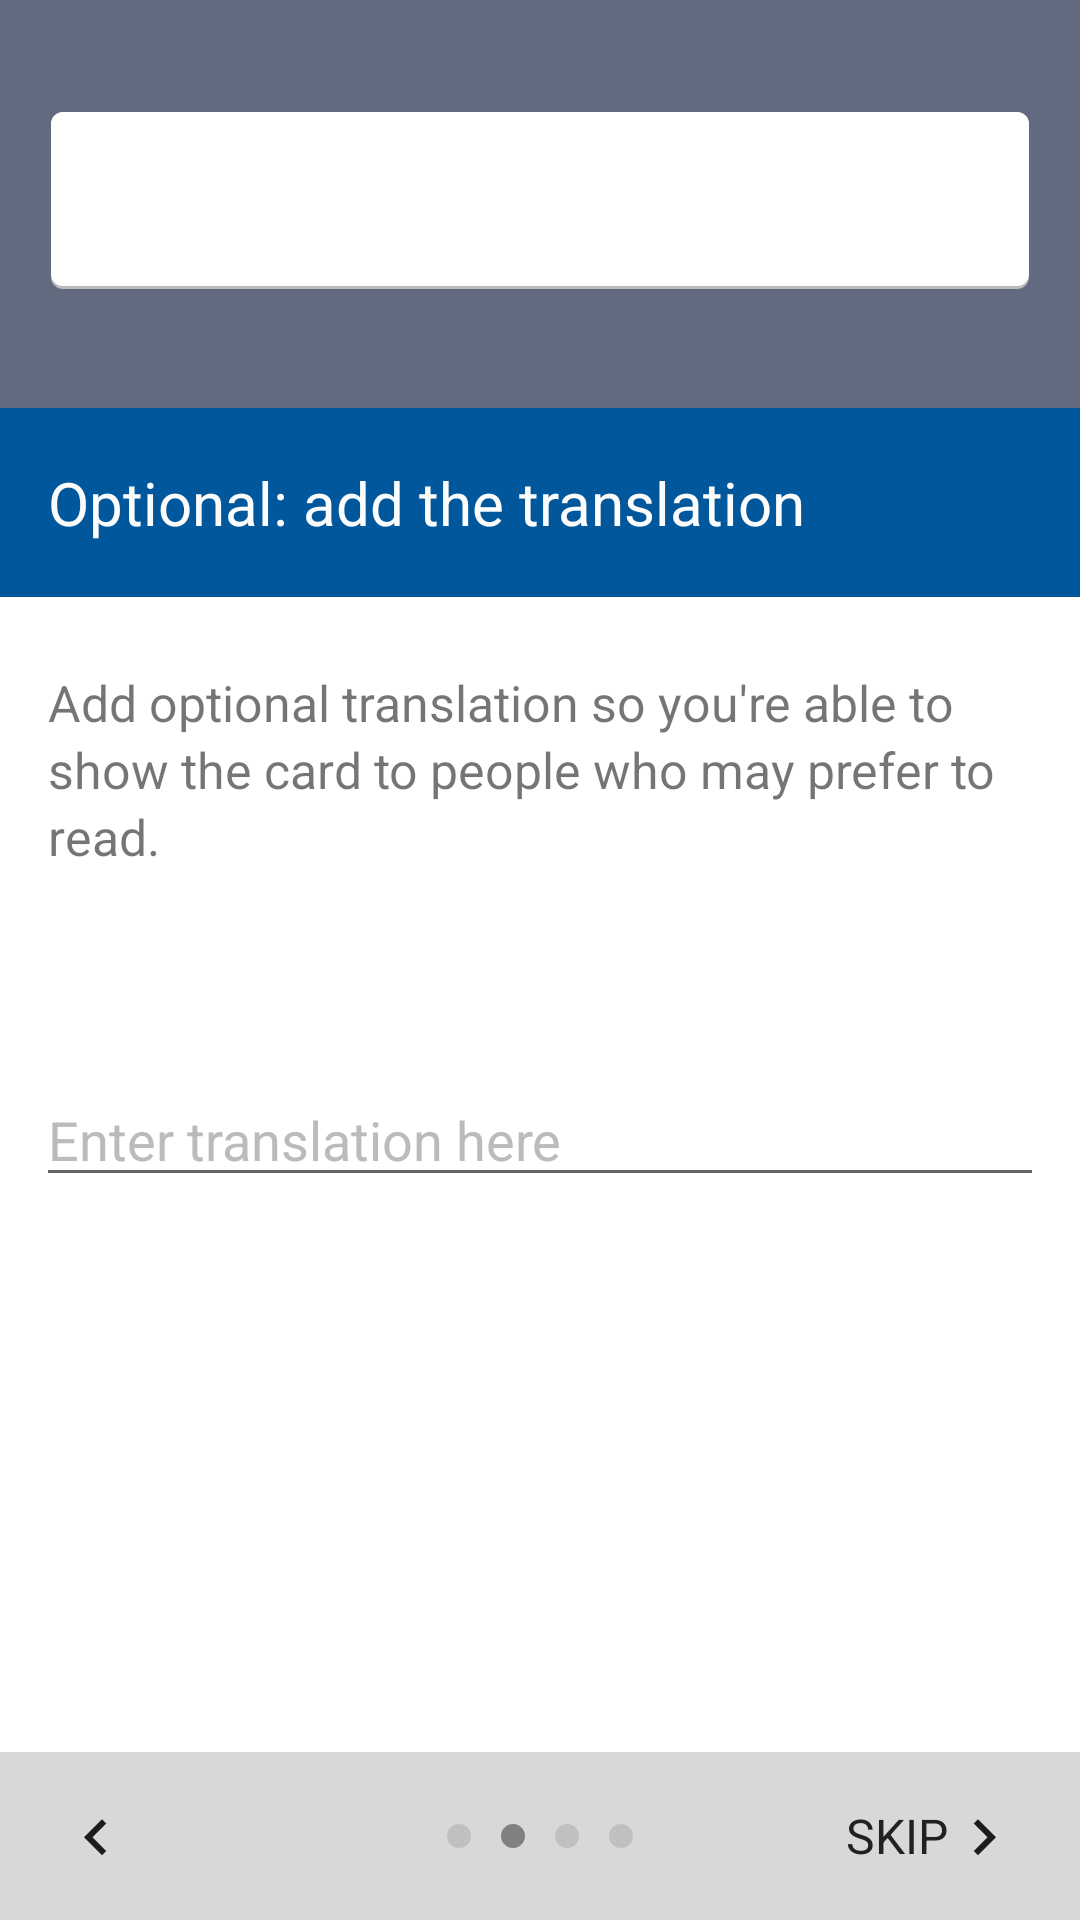

Where to tap for icons on this 1080 × 1920 app screen, as (x,y):
back arrow: (95,1837)
forward arrow: (985,1837)
